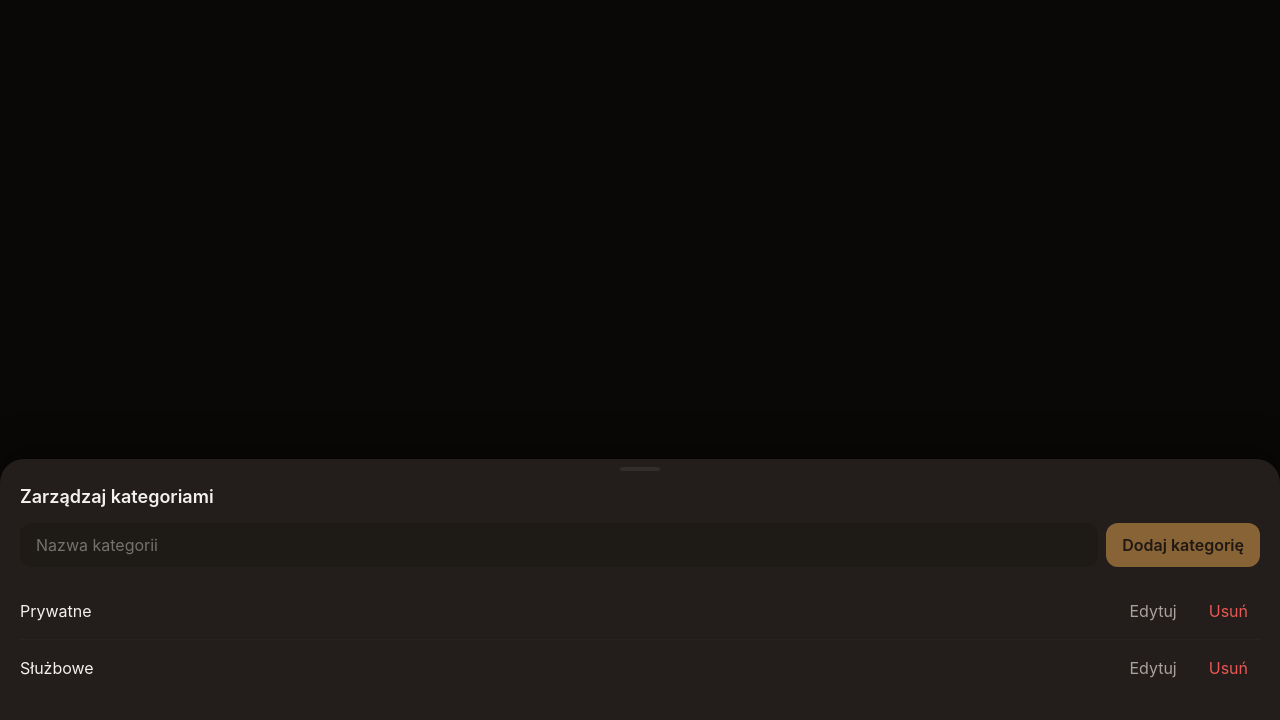
ManageCategoriesSheet › refuses to create a category with a duplicate name
Type "prywatne" into the field with placeholder "Nazwa kategorii" at (559, 545), box [20, 523, 1098, 567]
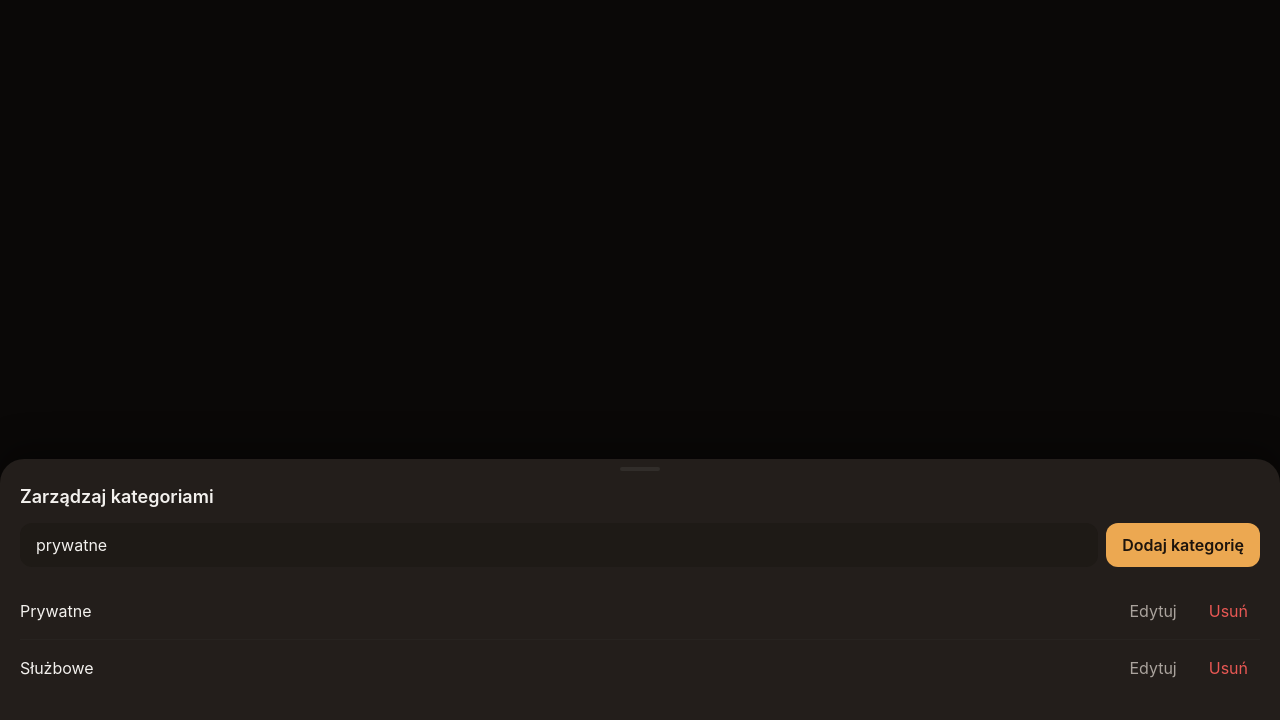
Click the button "Dodaj kategorię" at (1183, 545), box [1106, 523, 1260, 567]
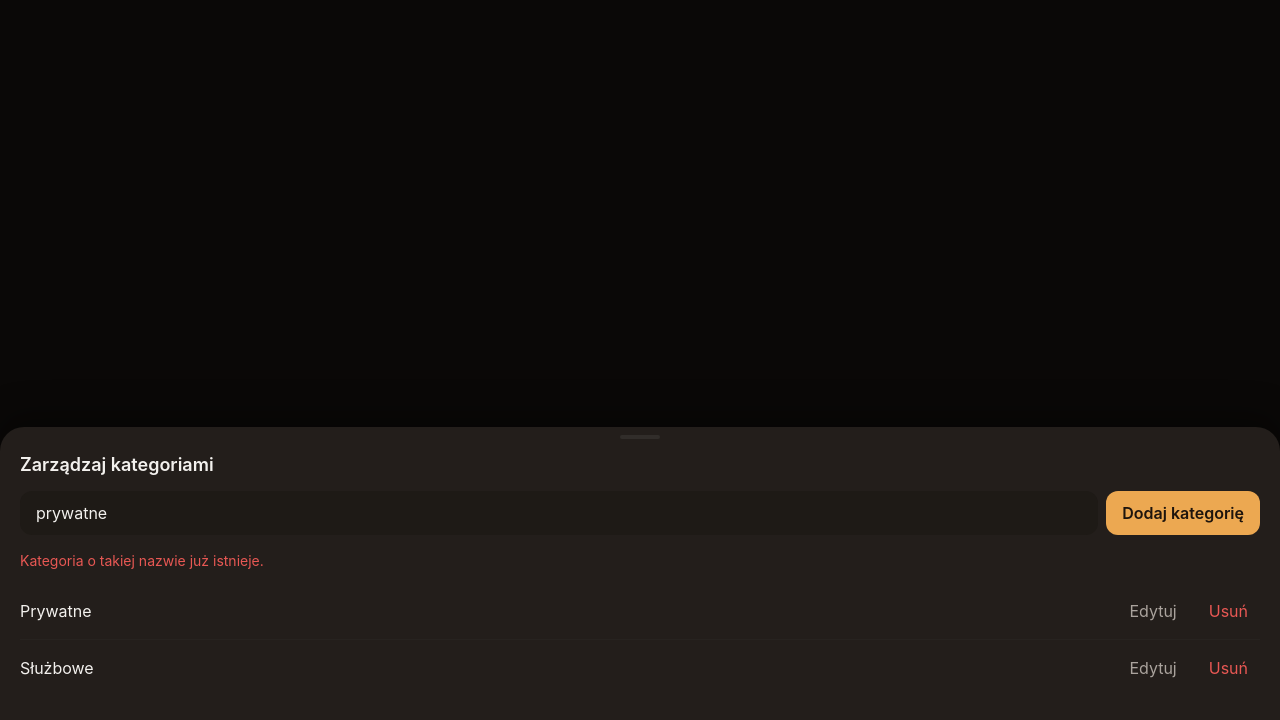
Now the message shows "już istnieje", box [20, 552, 264, 569]
